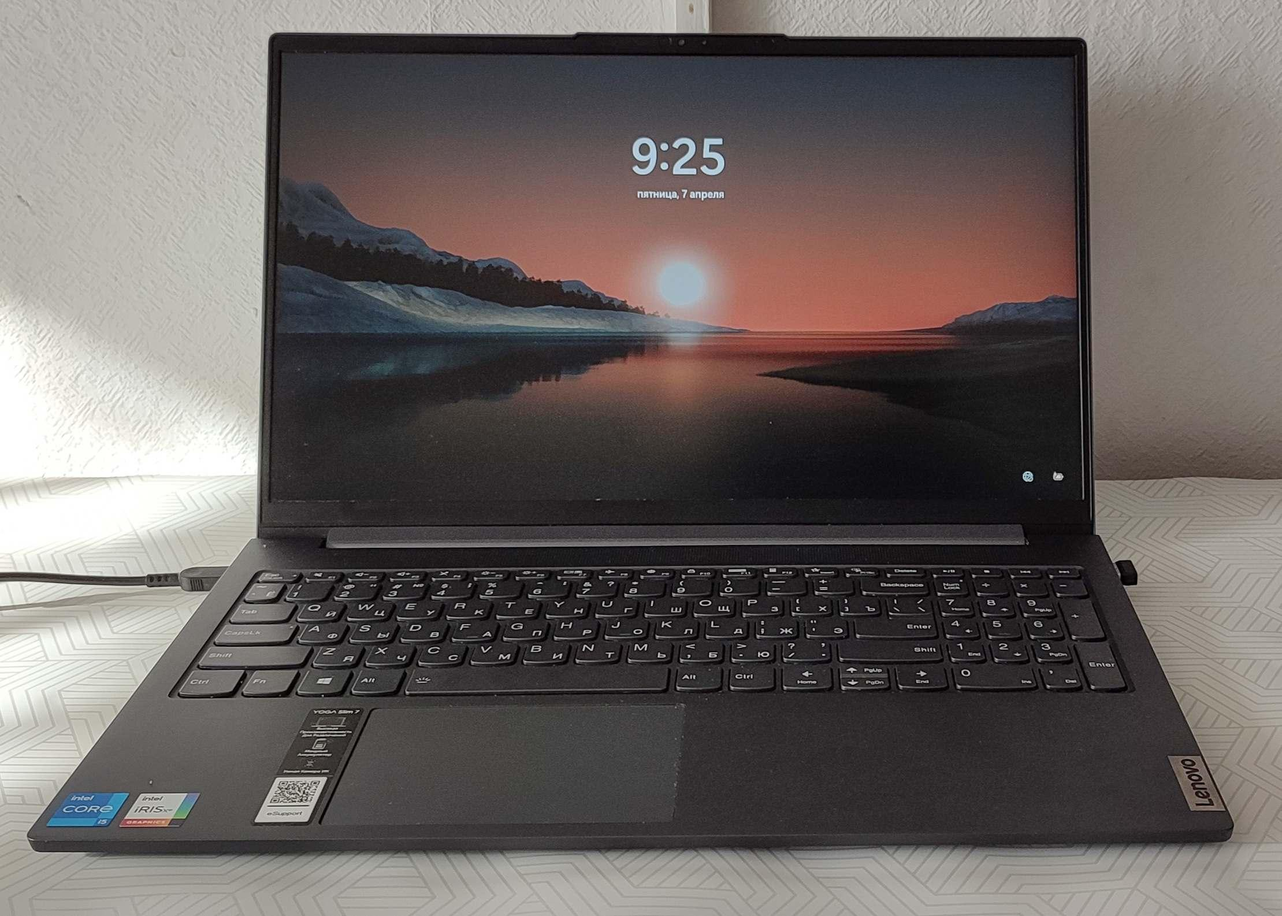monitor: (256, 29, 1099, 539)
